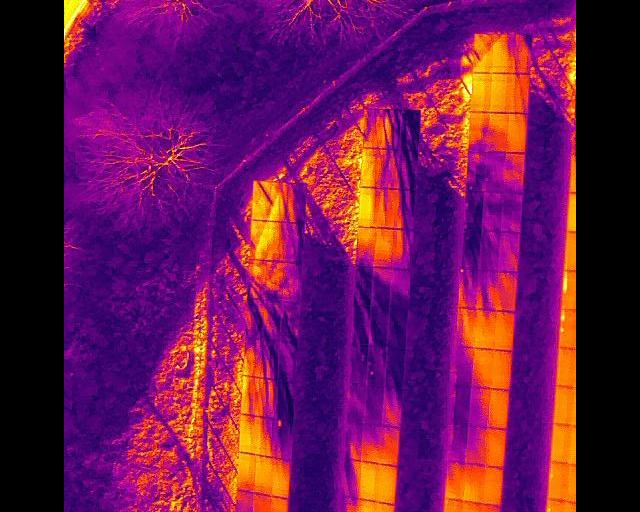Cell: (549, 462, 567, 500), (546, 500, 565, 512)
Cell-Multi: (560, 309, 576, 348)
No-Anomaly: (489, 387, 509, 429), (491, 348, 511, 390), (483, 464, 503, 504), (507, 113, 527, 152), (378, 464, 397, 503), (486, 427, 505, 466), (254, 455, 273, 494), (490, 72, 508, 113), (472, 73, 490, 112), (359, 461, 377, 499), (237, 453, 255, 491), (552, 424, 569, 463), (555, 386, 572, 424), (360, 186, 376, 226), (557, 347, 573, 386), (443, 497, 462, 512), (269, 497, 288, 512), (357, 499, 376, 512), (461, 500, 479, 512), (479, 503, 500, 512), (375, 503, 395, 512)
Shadowing: (453, 305, 476, 348), (246, 258, 269, 301), (281, 261, 303, 304), (381, 383, 403, 426), (263, 259, 285, 302), (363, 382, 385, 424), (250, 180, 272, 222), (448, 384, 471, 424), (260, 336, 281, 379), (261, 297, 282, 340), (466, 423, 487, 465), (243, 336, 264, 378), (268, 180, 289, 222), (280, 220, 301, 262), (494, 309, 515, 351), (283, 181, 304, 222), (348, 343, 369, 384), (367, 344, 388, 385), (384, 344, 405, 385), (395, 148, 416, 189), (457, 268, 478, 309), (498, 231, 519, 272), (501, 191, 522, 232), (378, 148, 399, 188), (387, 304, 407, 346), (452, 345, 473, 385), (464, 462, 485, 502), (443, 461, 465, 499), (351, 303, 371, 344), (369, 304, 389, 345), (373, 227, 393, 268), (380, 108, 400, 149), (393, 188, 413, 229), (484, 192, 504, 233), (504, 152, 524, 193), (370, 266, 391, 305), (346, 383, 366, 423), (352, 265, 372, 305), (477, 270, 497, 310), (479, 230, 499, 270), (271, 458, 291, 498), (497, 271, 517, 311), (472, 346, 491, 388), (485, 150, 504, 192), (245, 296, 264, 338), (249, 219, 268, 261), (266, 219, 284, 263), (343, 421, 363, 460), (448, 423, 468, 462), (460, 229, 480, 268), (392, 228, 411, 269), (476, 308, 495, 349), (508, 72, 527, 113), (464, 191, 483, 231), (470, 386, 488, 428), (357, 227, 376, 266), (390, 267, 409, 306), (376, 187, 394, 228), (468, 149, 486, 190), (241, 374, 259, 415), (400, 110, 419, 148), (362, 422, 380, 462), (380, 425, 398, 465), (474, 32, 492, 72), (258, 377, 276, 417), (509, 32, 527, 72), (341, 459, 360, 496), (470, 112, 488, 151), (363, 147, 380, 187), (493, 32, 510, 72), (256, 416, 273, 456), (364, 108, 381, 147), (489, 112, 506, 151), (241, 415, 257, 454), (235, 490, 254, 512), (251, 493, 272, 512), (339, 496, 359, 512)
